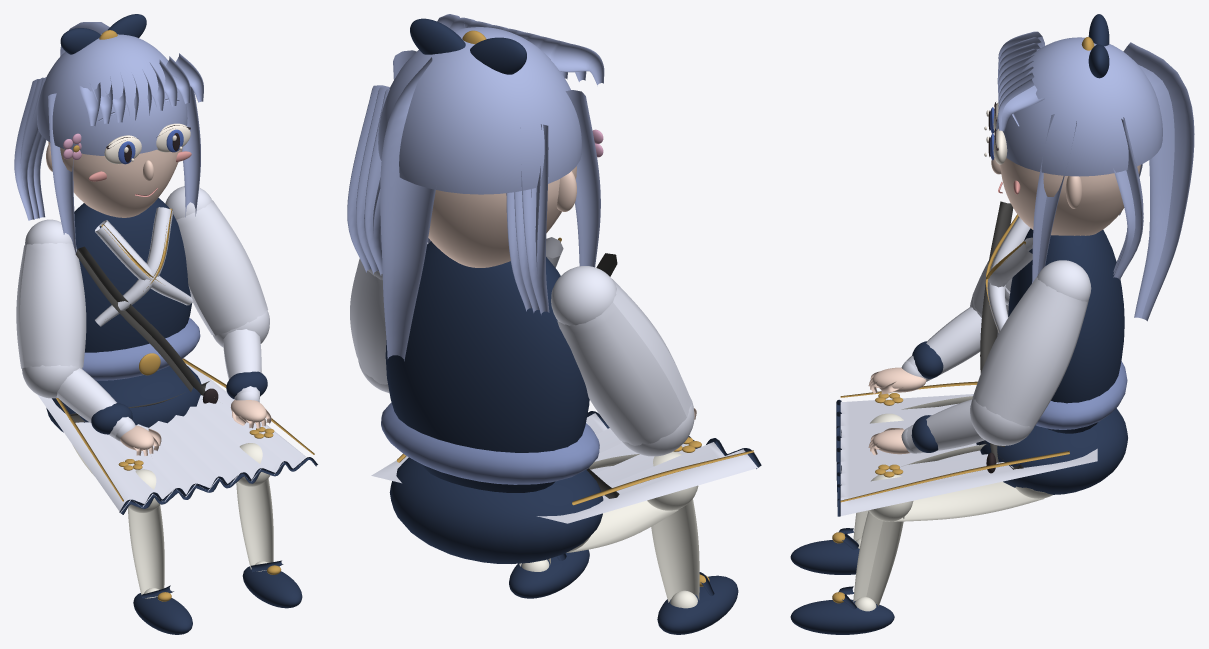
File: ayaka.glb
3 renders of one model, left to right at view 1: azimuth 30°, elevation 25°; view 2: azimuth 150°, elevation 25°; view 3: azimuth 270°, elevation 25°, orthographic. The views are drawn at different scales.
Visible parts, largest first — view 1: batched-character-detail (×12), passenger-ayaka, head-rig; view 2: batched-character-detail (×7), passenger-ayaka; view 3: batched-character-detail (×10), passenger-ayaka.
Boxes of the visible parts, x1=… form: batched-character-detail (×12): x1=14, y1=14, x2=317, y2=634; passenger-ayaka: x1=82, y1=318, x2=218, y2=403; head-rig: x1=118, y1=129, x2=183, y2=164; batched-character-detail (×7): x1=347, y1=14, x2=761, y2=634; passenger-ayaka: x1=381, y1=402, x2=599, y2=484; batched-character-detail (×10): x1=790, y1=14, x2=1194, y2=634; passenger-ayaka: x1=986, y1=361, x2=1127, y2=473.
Bounding box in the file's own units: 0.4479 × 0.9037 × 0.5814.
